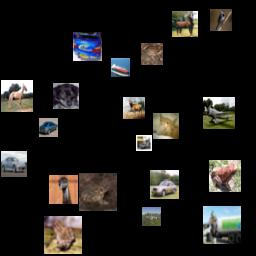airplane: (203, 97, 235, 129), (142, 207, 161, 226)
automobile: (73, 32, 102, 61), (150, 170, 179, 199), (1, 151, 27, 177), (39, 118, 58, 137)
bird: (49, 175, 78, 204), (210, 9, 232, 31)
cat: (153, 113, 179, 139)
deer: (123, 97, 145, 119)
dog: (53, 83, 79, 109)
frog: (79, 173, 117, 211), (44, 216, 82, 254), (209, 160, 241, 192), (141, 43, 163, 65)
ship: (111, 58, 130, 77)
truck: (203, 206, 241, 244), (136, 135, 152, 151)
